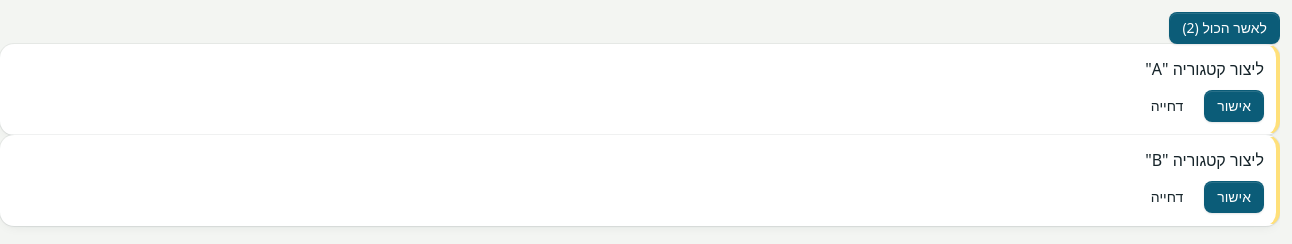
Test: ActionGroup › treats a missing result as a generic failure
The width and height of the screenshot is (1292, 244).
Click the button "לאשר הכול (2)": point(1225, 28) [1169,12,1280,44]
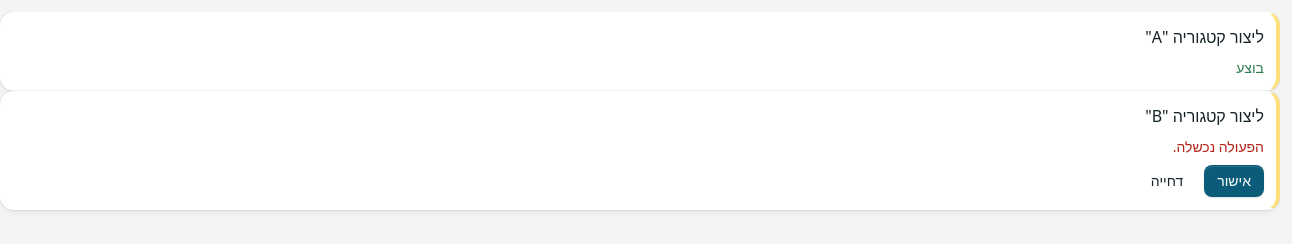
Check: the message "הפעולה נכשלה." is shown, box [1173,137,1264,156]
Check: the text "בוצע" is shown once, box [1236,58,1264,77]
